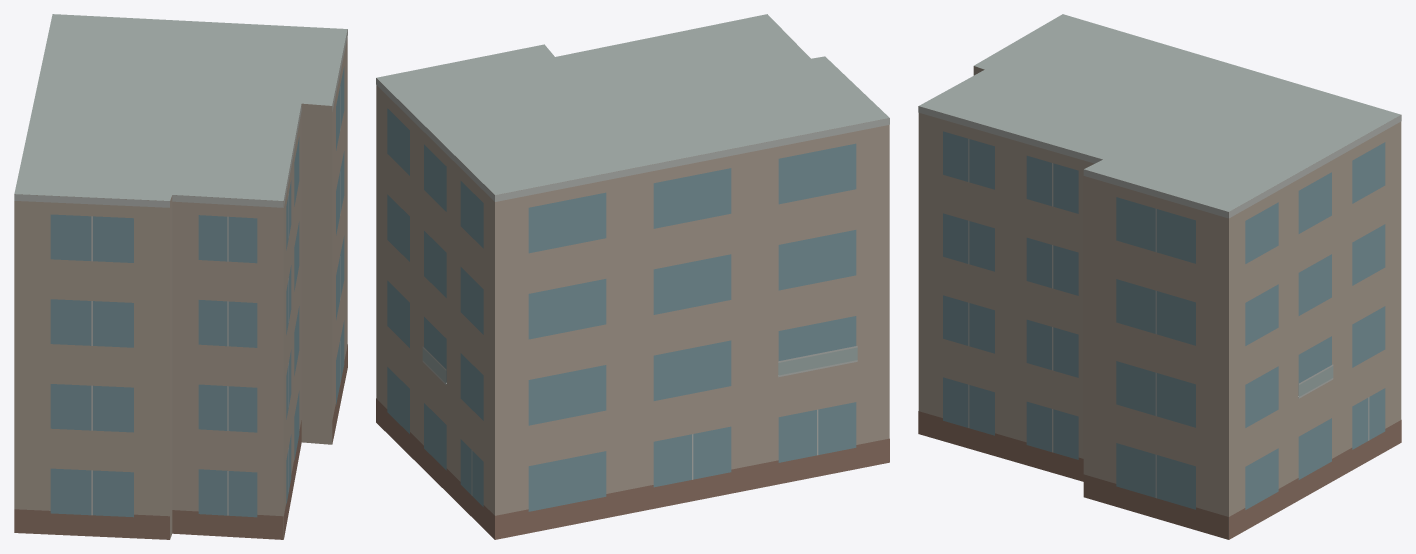
Rendered from survey-upis-33042260.glb.
3 renders of one model, left to right at view 1: azimuth 30°, elevation 25°; view 2: azimuth 150°, elevation 25°; view 3: azimuth 270°, elevation 25°, orthographic. The views are drawn at different scales.
Parts seen in each view (by area): view 1: survey-upis-33042260.tmp; view 2: survey-upis-33042260.tmp; view 3: survey-upis-33042260.tmp.
Boxes of the visible parts, x1,y1,x2,y2 form: survey-upis-33042260.tmp: [14, 14, 347, 539]; survey-upis-33042260.tmp: [376, 14, 889, 539]; survey-upis-33042260.tmp: [918, 14, 1401, 539].
Size of the model in its own units: 15.8 by 12.2 by 16.29.
